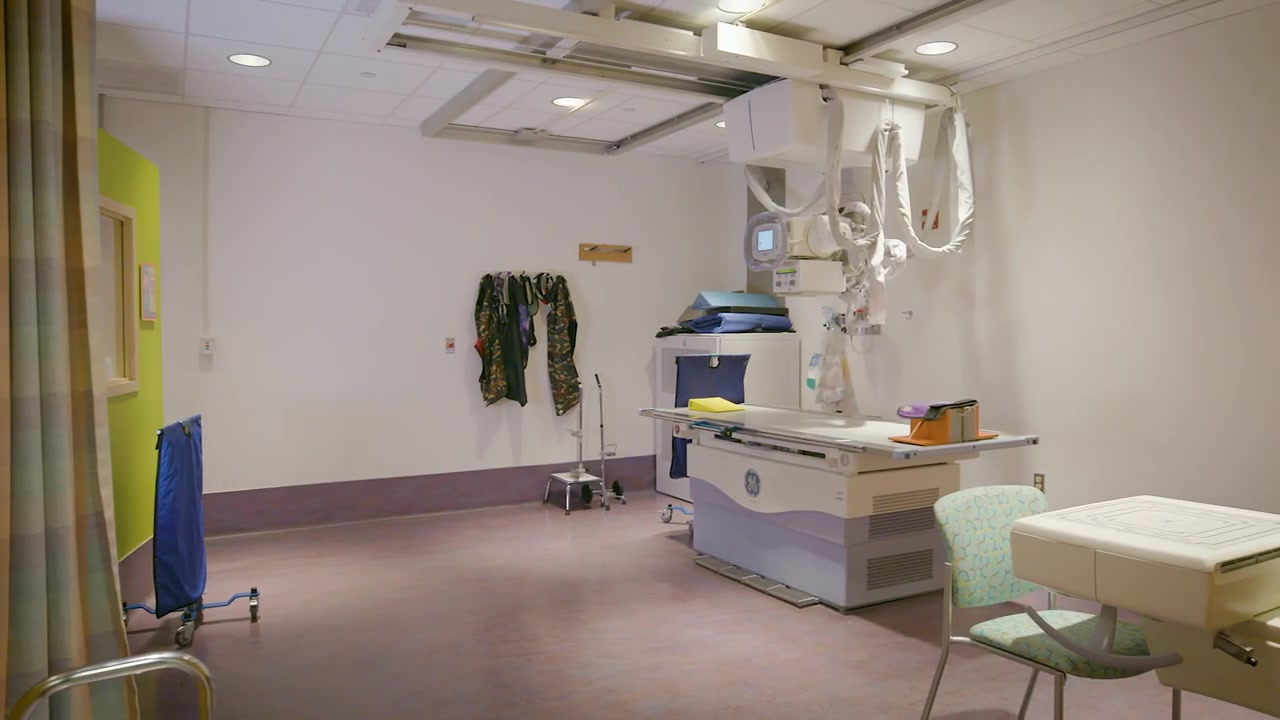bedside_monitor: (758, 230, 773, 251)
chair: (918, 483, 1183, 720)
curtain: (4, 44, 143, 720)
exam_table: (645, 401, 1038, 614)
table: (1011, 492, 1280, 720)
